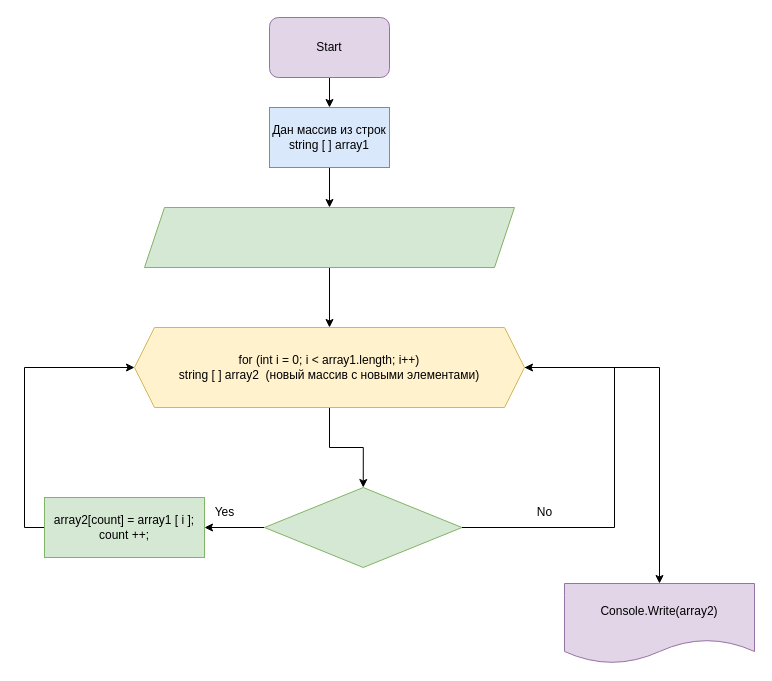
The diagram is 772 pixels wide and 681 high, and some of its shapes have lost their labels. Each missing label, with the centre of its shape:
"if (array1 [ i ]. length < = 3" belongs at (363,527).
"string [ ] array2 - создаем новый массив int count = 0 - размер нового массива" belongs at (329,237).
